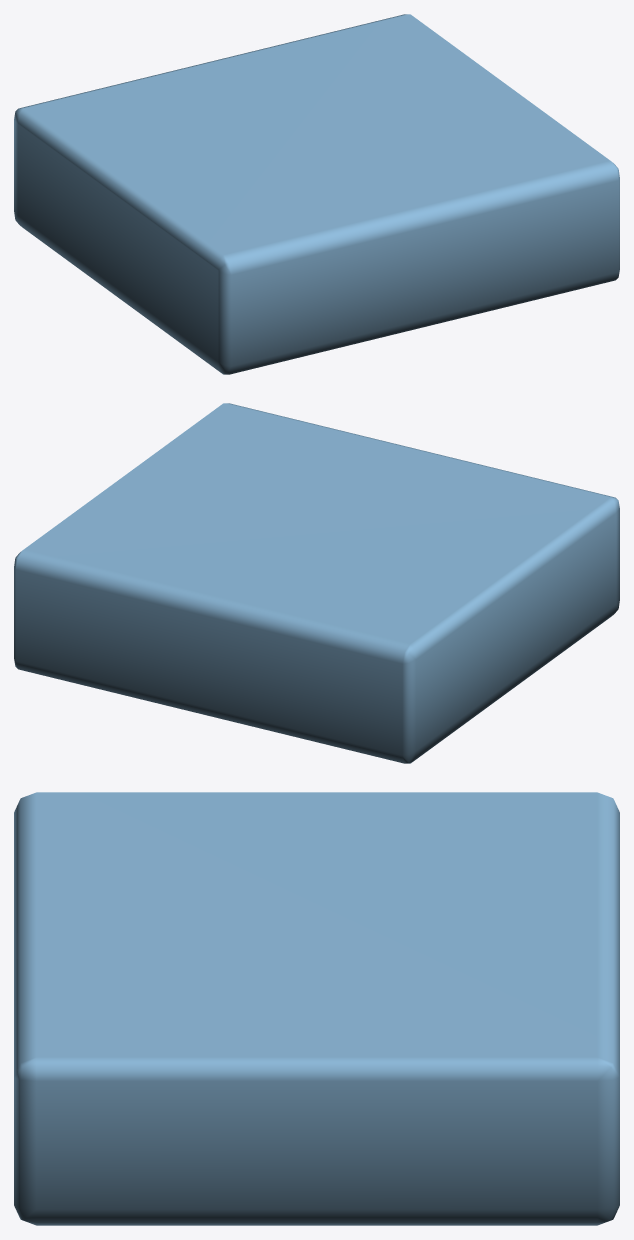
Rendered from platform3.glb.
3 renders of one model, top to bottom at view 1: azimuth 30°, elevation 25°; view 2: azimuth 150°, elevation 25°; view 3: azimuth 270°, elevation 25°, orthographic. The views are drawn at different scales.
Parts seen in each view (by area): view 1: platform; view 2: platform; view 3: platform.
Part boxes in pixels (x1,y1,x2,y2): platform: (14, 14, 619, 374); platform: (14, 403, 619, 763); platform: (14, 792, 619, 1225).
Bounding box in the file's own units: 1.68 × 0.4836 × 1.58.
